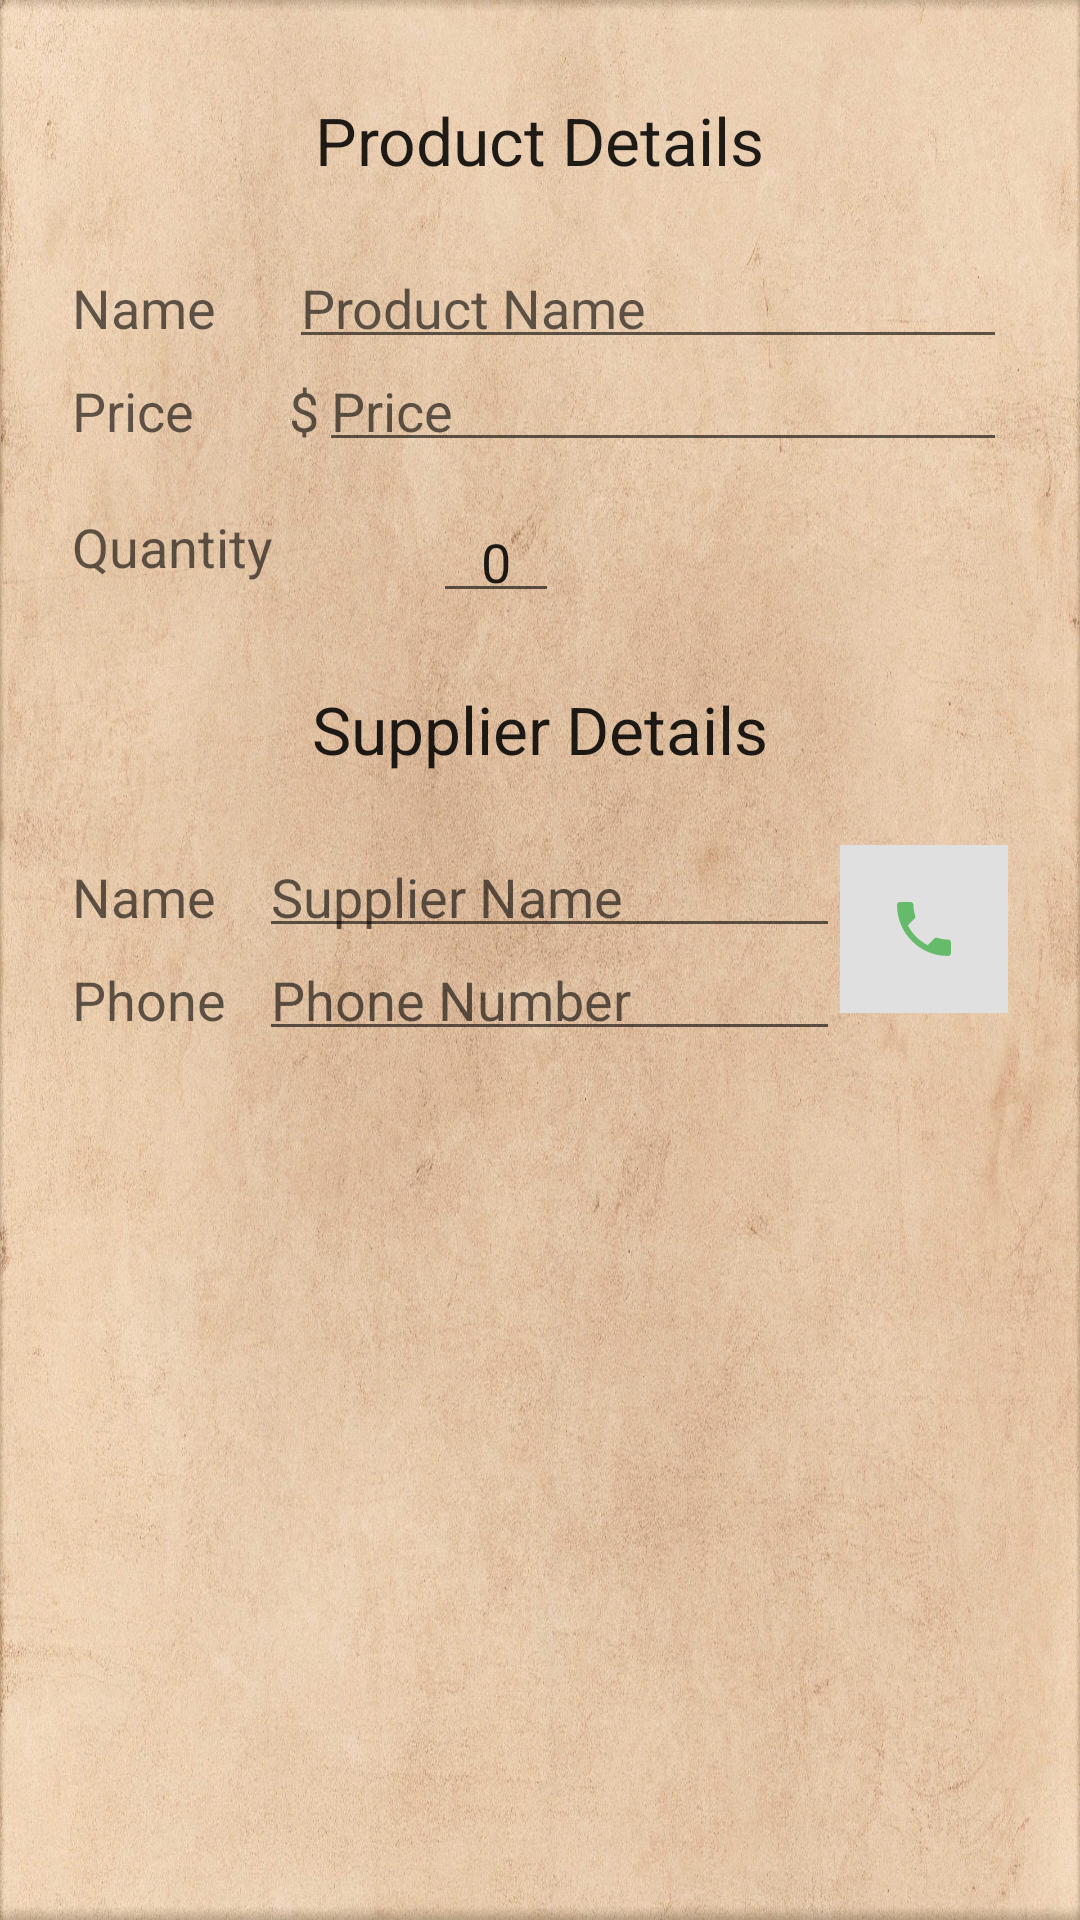

Icon bounding boxes for this 1080*1920 phone screenshot, format (x1, y1, x2, y2):
contact supplier: (840, 845, 1008, 1013)
